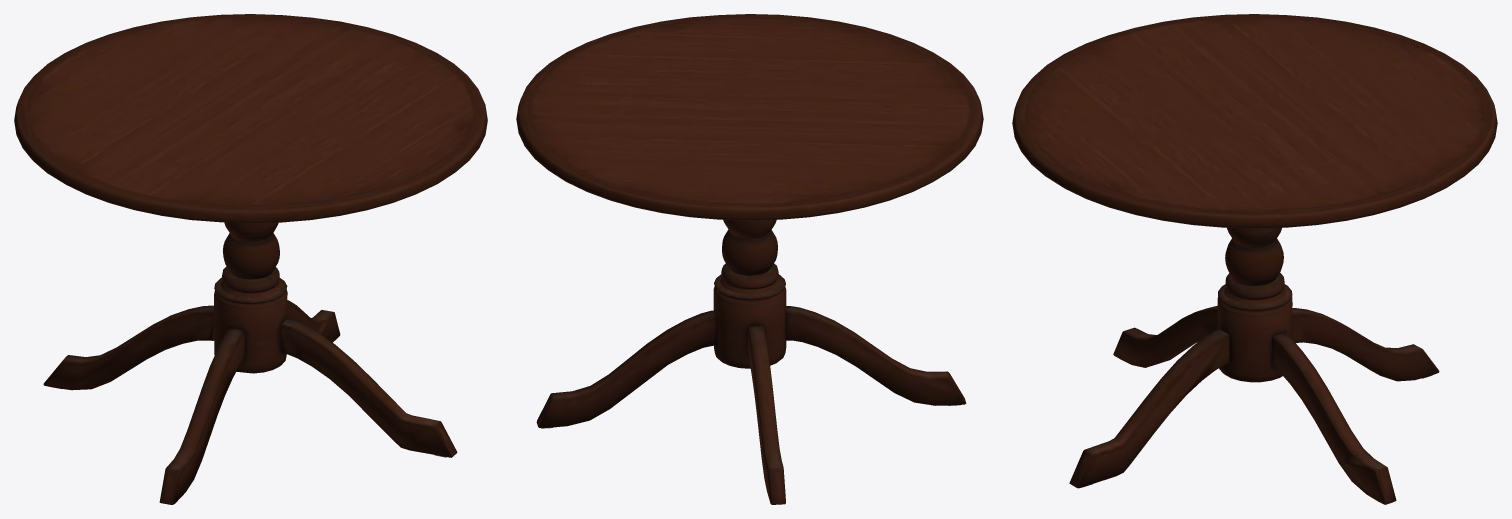
Rendered from round_wooden_table_01.glb.
The picture shows the model from 3 angles, left to right: view 1: azimuth 30°, elevation 25°; view 2: azimuth 150°, elevation 25°; view 3: azimuth 270°, elevation 25°; orthographic projection. The views are drawn at different scales.
Visible parts, largest first — view 1: round_wooden_table_01; view 2: round_wooden_table_01; view 3: round_wooden_table_01.
Part boxes in pixels (x1,y1,x2,y2): round_wooden_table_01: [14, 14, 487, 504]; round_wooden_table_01: [516, 14, 983, 504]; round_wooden_table_01: [1012, 14, 1497, 504].
Bounding box in the file's own units: 1.4 × 1 × 1.4.
1 material, 1 textured.
